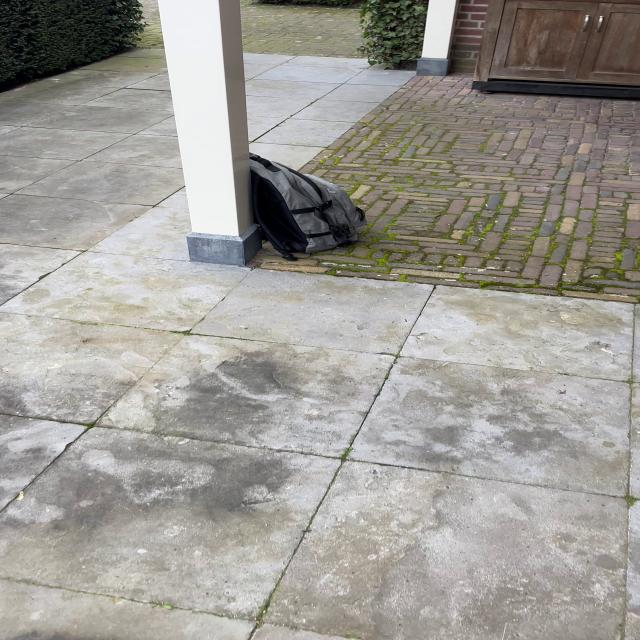backpack: (236, 151, 371, 263)
